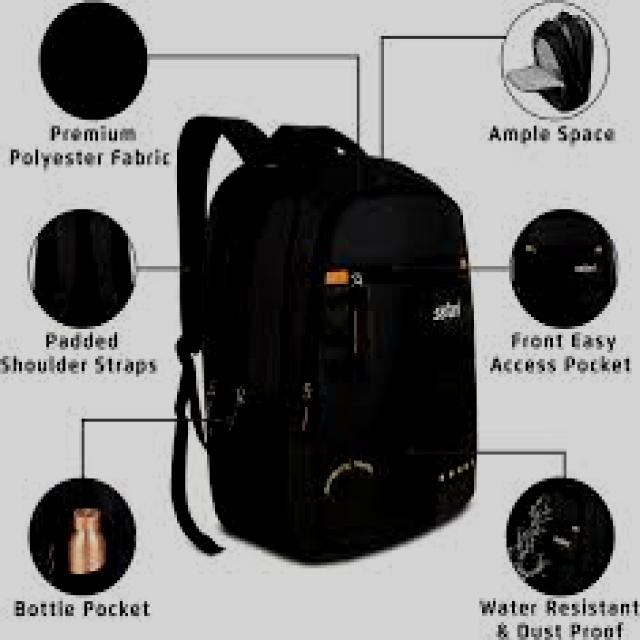backpack: (170, 115, 478, 563)
